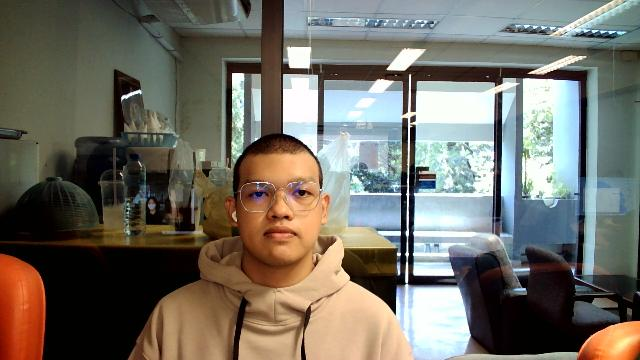fokus: (223, 133, 331, 264)
